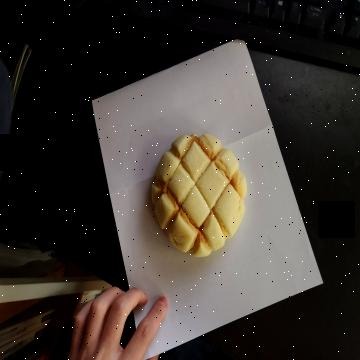melon_bread: (150, 132, 247, 261)
